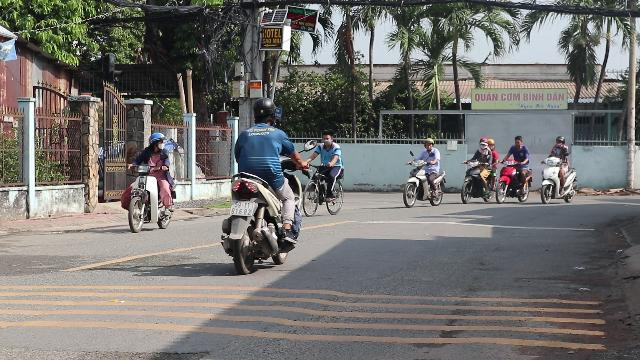helmet: (251, 96, 277, 126), (148, 131, 164, 149)
licenseplate: (230, 200, 254, 216)
motorcyclist: (218, 96, 304, 272), (119, 130, 177, 231)
